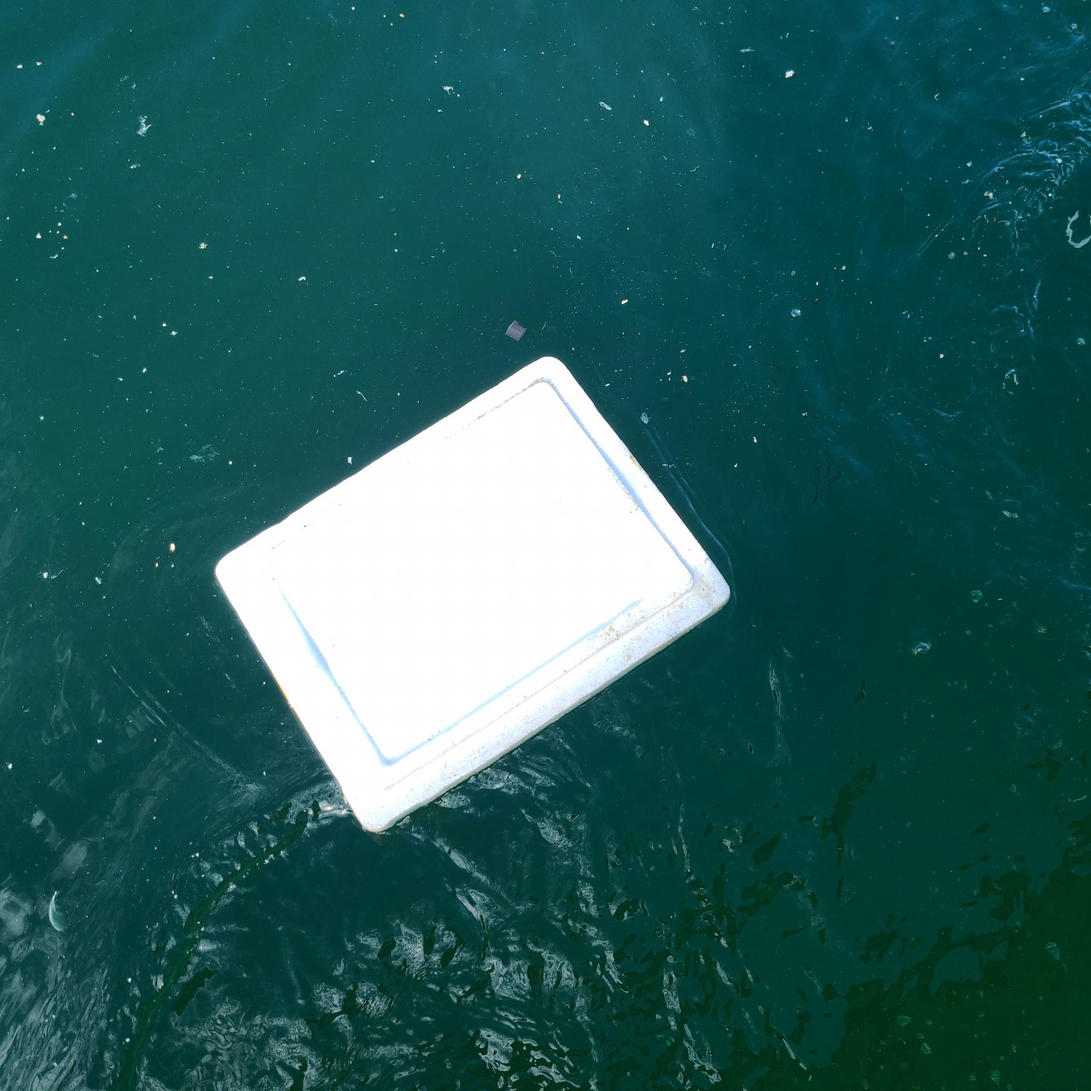sampah_terapung: (215, 357, 731, 832)
